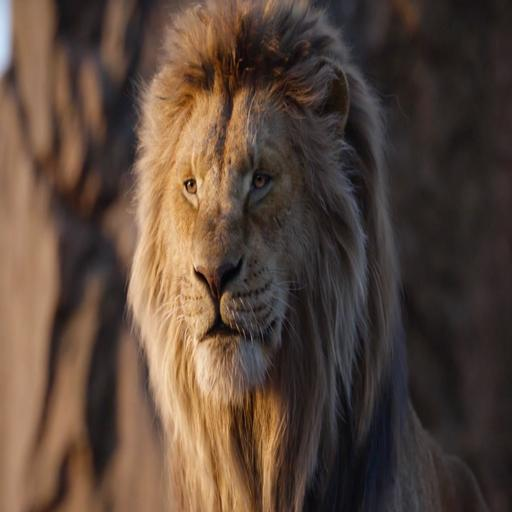Lion: (123, 0, 512, 512)
